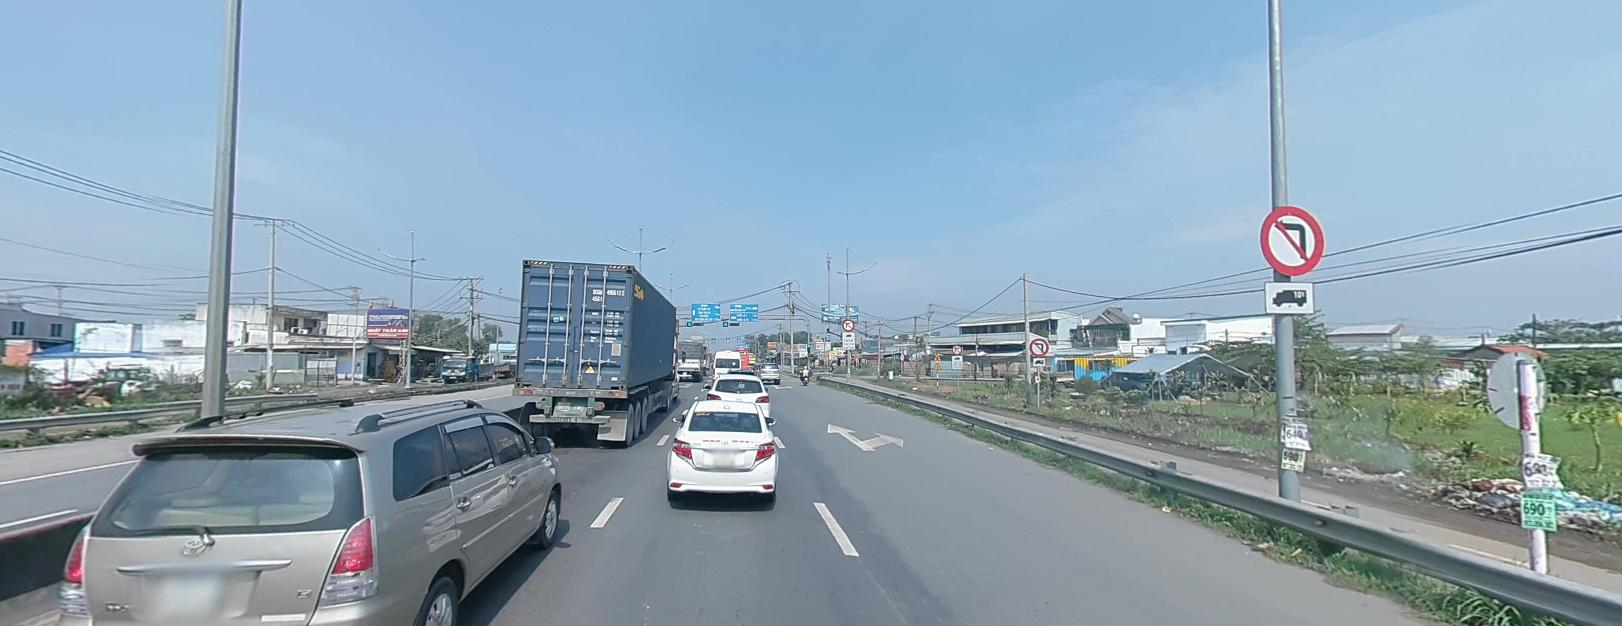Cam re: (1257, 203, 1326, 277), (1029, 336, 1048, 354), (842, 317, 854, 330), (951, 342, 962, 352)
Nguy hiem: (933, 351, 941, 359), (932, 361, 941, 368)
